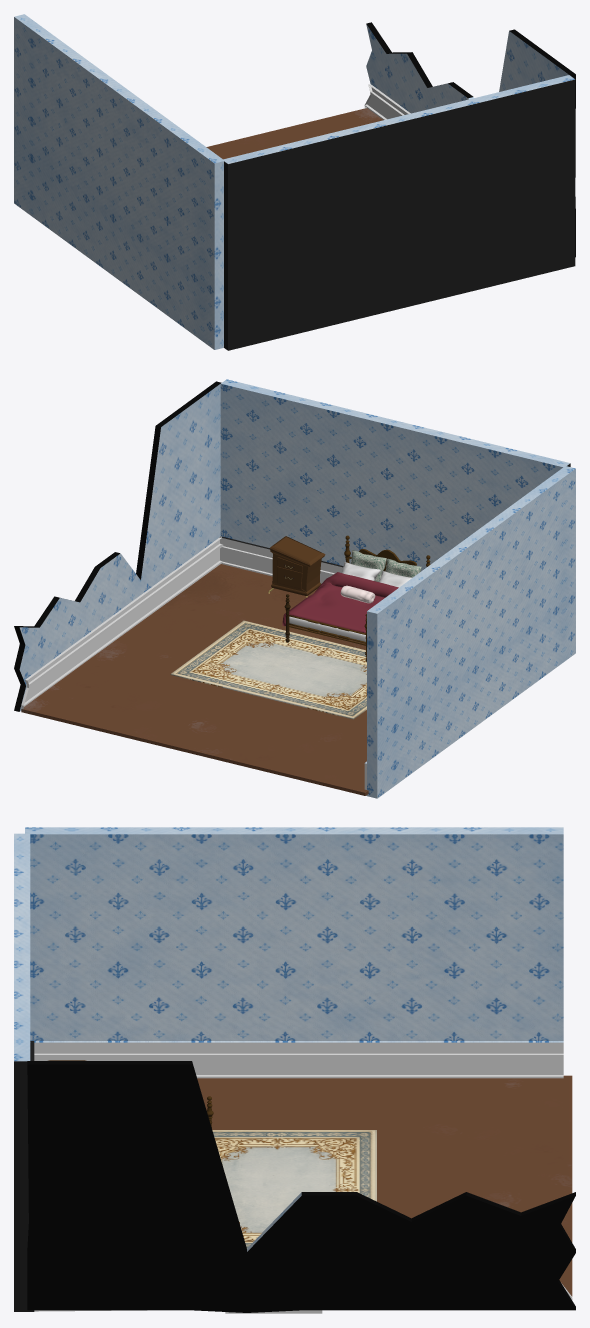
The model's file is parentsbedroom.glb.
3 renders of one model, top to bottom at view 1: azimuth 30°, elevation 25°; view 2: azimuth 150°, elevation 25°; view 3: azimuth 270°, elevation 25°, orthographic. The views are drawn at different scales.
Parts seen in each view (by area): view 1: floor.003, floor.002, Cube.001, floor, floor.005; view 2: floor.003, floor.002, floor, Cube.001, rug, floor.005, Plane, nightstand.001, MATRESS, bigpillow.001; view 3: floor.002, Cube.001, floor, floor.004, rug, floor.003.
Boxes of the visible parts, x1,y1,x2,y2 form: floor.003: (223, 75, 575, 350); floor.002: (14, 14, 224, 349); Cube.001: (366, 22, 575, 257); floor: (206, 108, 383, 159); floor.005: (364, 84, 410, 119); floor.003: (219, 379, 570, 583); floor.002: (364, 466, 575, 798); floor: (21, 564, 368, 795); Cube.001: (14, 381, 221, 711); rug: (170, 620, 366, 719); floor.005: (21, 536, 223, 709); Plane: (282, 572, 398, 633); nightstand.001: (268, 536, 325, 597); MATRESS: (289, 616, 365, 641); bigpillow.001: (350, 550, 386, 581); floor.002: (25, 827, 563, 1040); Cube.001: (27, 1061, 575, 1312); floor: (197, 1075, 572, 1296); floor.004: (34, 1041, 563, 1078); rug: (212, 1130, 376, 1247); floor.003: (14, 833, 34, 1311).
Size of the model in its own units: 23.14 by 12.06 by 23.15.
27 materials, 5 textured.
